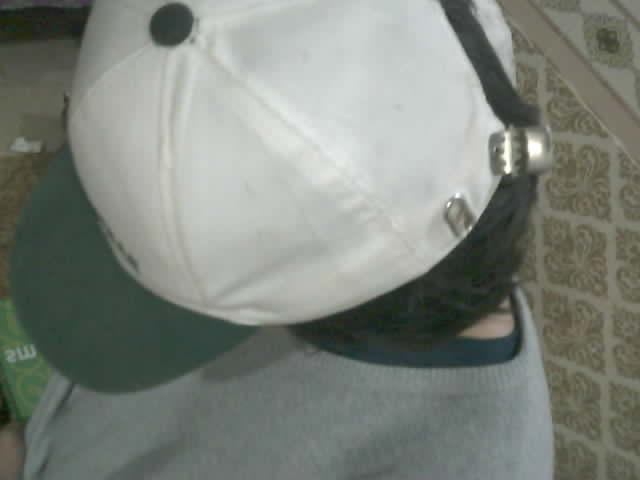cap: (7, 0, 550, 394)
